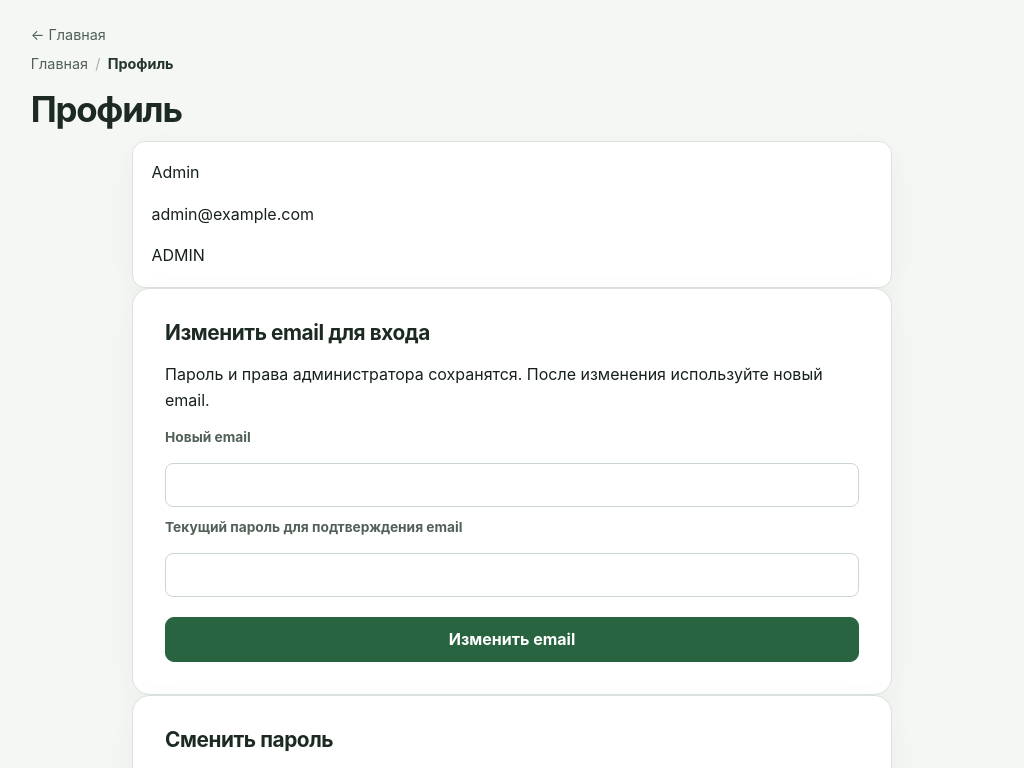
Accounts › changes administrator email only after password confirmation
Type "afkochnev@gmail.com" into the field labelled "Новый email" at (512, 485), box [165,463,859,507]
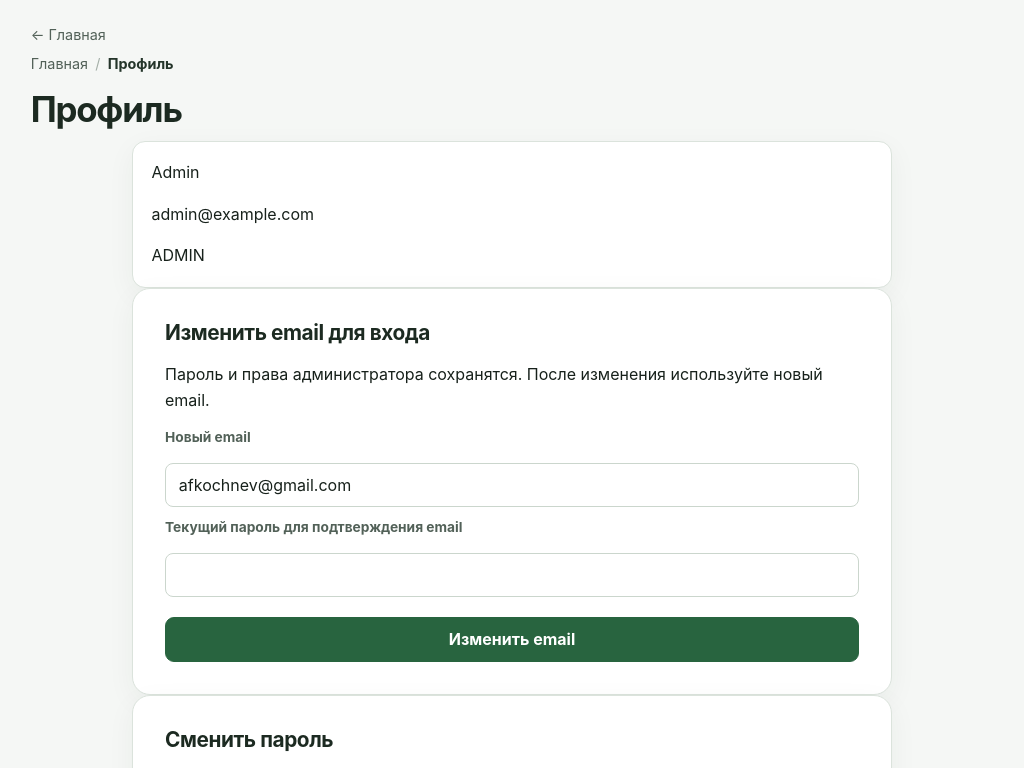
Type "valid-password" into the password field labelled "Текущий пароль для подтверждения email" at (512, 575), box [165,553,859,597]
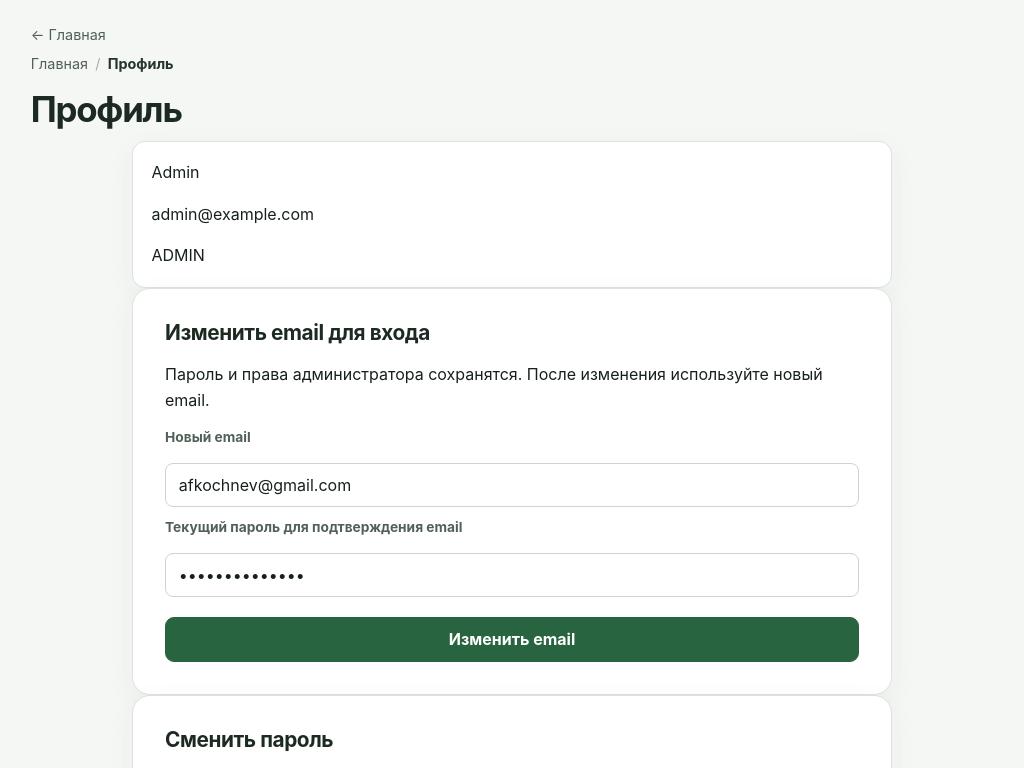
Click the button "Изменить email" at (512, 639), box [165,617,859,662]
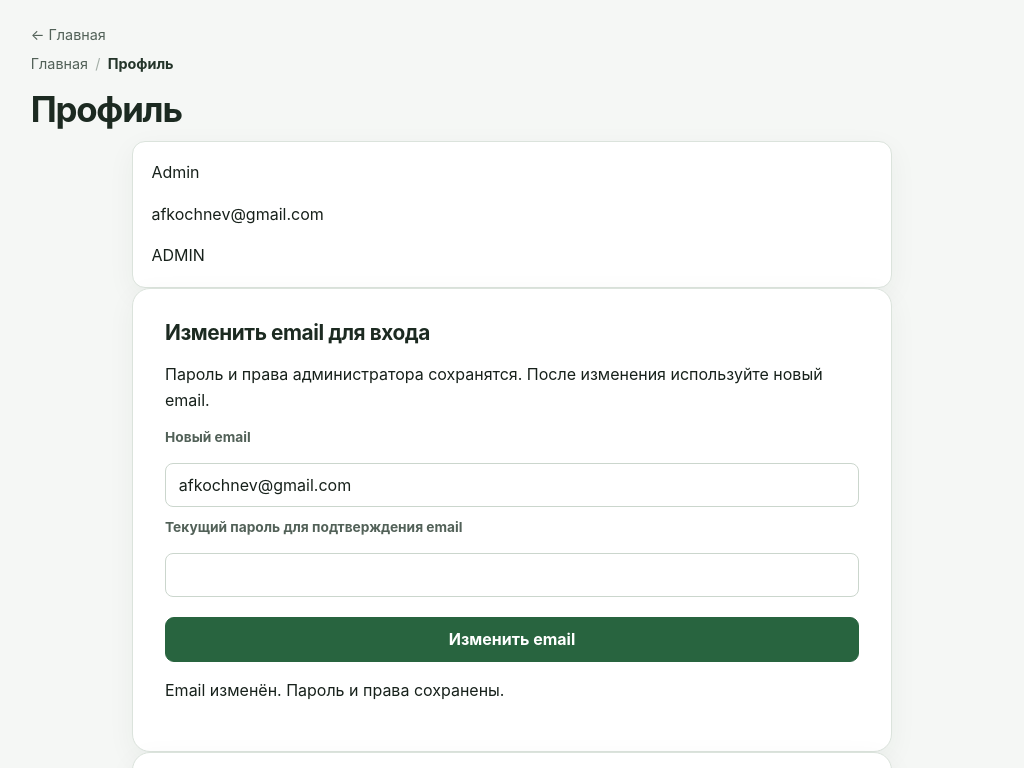
Now the text "afkochnev@gmail.com" is shown, box [151,204,324,224]
Now the password field labelled "Текущий пароль для подтверждения email" is empty, box [165,553,859,597]
